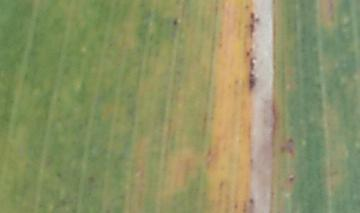tarspot: (243, 10, 260, 40), (247, 55, 257, 93), (286, 144, 295, 158), (278, 143, 287, 156), (53, 169, 63, 179), (171, 16, 179, 27), (287, 174, 295, 185), (247, 196, 255, 206), (286, 137, 295, 145), (243, 3, 251, 11), (233, 78, 240, 86), (248, 45, 254, 53), (217, 42, 222, 50), (244, 50, 250, 56)
